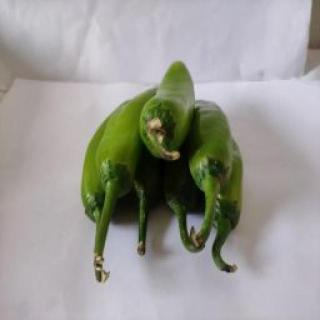Cabai Hijau: (137, 59, 199, 166)
